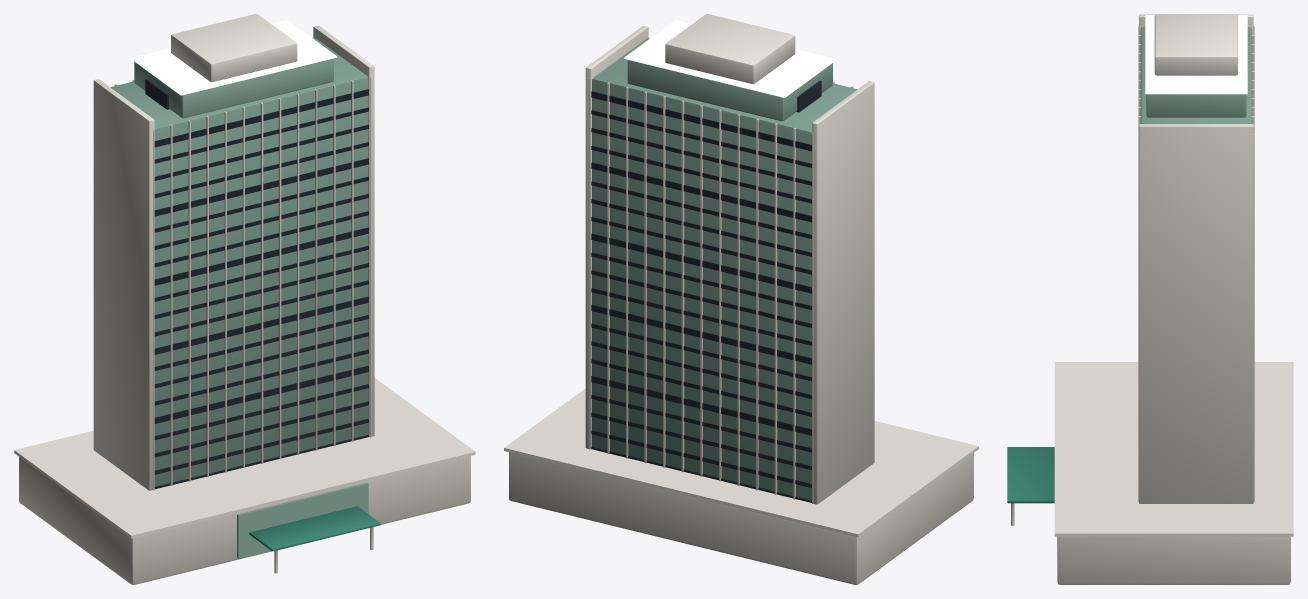
File: hotel-osaka.glb
The picture shows the model from 3 angles, left to right: view 1: azimuth 30°, elevation 25°; view 2: azimuth 150°, elevation 25°; view 3: azimuth 270°, elevation 25°; orthographic projection. The views are drawn at different scales.
Visible parts, largest first — view 1: LOD0_Fin, LOD0_Facade, LOD0_Spandrel, LOD0_Stone, LOD1_Facade, LOD1_Spandrel, LOD0_CrownGlow, LOD0_Accent; view 2: LOD0_Fin, LOD0_Facade, LOD0_Stone, LOD0_Spandrel, LOD1_Spandrel, LOD0_CrownGlow; view 3: LOD0_Fin, LOD0_Stone, LOD0_Facade, LOD0_CrownGlow, LOD0_Accent, LOD1_Fin.
Boxes of the visible parts, left/top/right/bottom form: LOD0_Fin: left=14, top=14, right=475, bottom=573; LOD0_Facade: left=110, top=37, right=368, bottom=558; LOD0_Spandrel: left=145, top=79, right=368, bottom=489; LOD0_Stone: left=19, top=456, right=470, bottom=584; LOD1_Facade: left=120, top=79, right=367, bottom=434; LOD1_Spandrel: left=145, top=79, right=368, bottom=488; LOD0_CrownGlow: left=131, top=20, right=337, bottom=95; LOD0_Accent: left=249, top=506, right=380, bottom=551; LOD0_Fin: left=504, top=14, right=978, bottom=537; LOD0_Facade: left=592, top=38, right=857, bottom=500; LOD0_Stone: left=509, top=452, right=973, bottom=584; LOD0_Spandrel: left=591, top=80, right=821, bottom=499; LOD1_Spandrel: left=591, top=81, right=820, bottom=502; LOD0_CrownGlow: left=624, top=20, right=836, bottom=97; LOD0_Fin: left=1011, top=14, right=1293, bottom=536; LOD0_Stone: left=1057, top=536, right=1290, bottom=584; LOD0_Facade: left=1140, top=27, right=1251, bottom=123; LOD0_CrownGlow: left=1145, top=15, right=1247, bottom=94; LOD0_Accent: left=1007, top=447, right=1054, bottom=503; LOD1_Fin: left=1155, top=57, right=1235, bottom=74.
Bounding box in the file's own units: 73 × 92.5 × 51.5.
